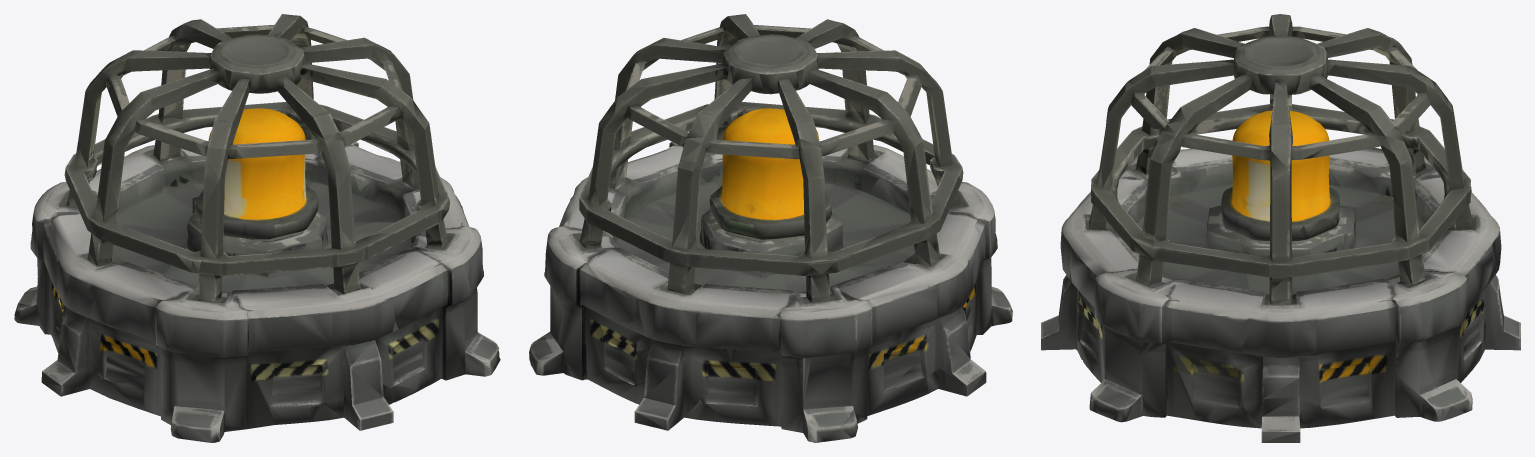
Rendered from 24_debris_beacon_caged.fbx.
The picture shows the model from 3 angles, left to right: view 1: azimuth 30°, elevation 25°; view 2: azimuth 150°, elevation 25°; view 3: azimuth 270°, elevation 25°; orthographic projection.
Parts seen in each view (by area): view 1: 24_debris_beacon_caged; view 2: 24_debris_beacon_caged; view 3: 24_debris_beacon_caged.
Part boxes in pixels (<box>): 24_debris_beacon_caged: <box>14,14,500,442</box>; 24_debris_beacon_caged: <box>529,14,1012,442</box>; 24_debris_beacon_caged: <box>1041,14,1520,442</box>.
Size of the model in its own units: 0.7963 by 0.5355 by 0.8.
1 material, 1 textured.
